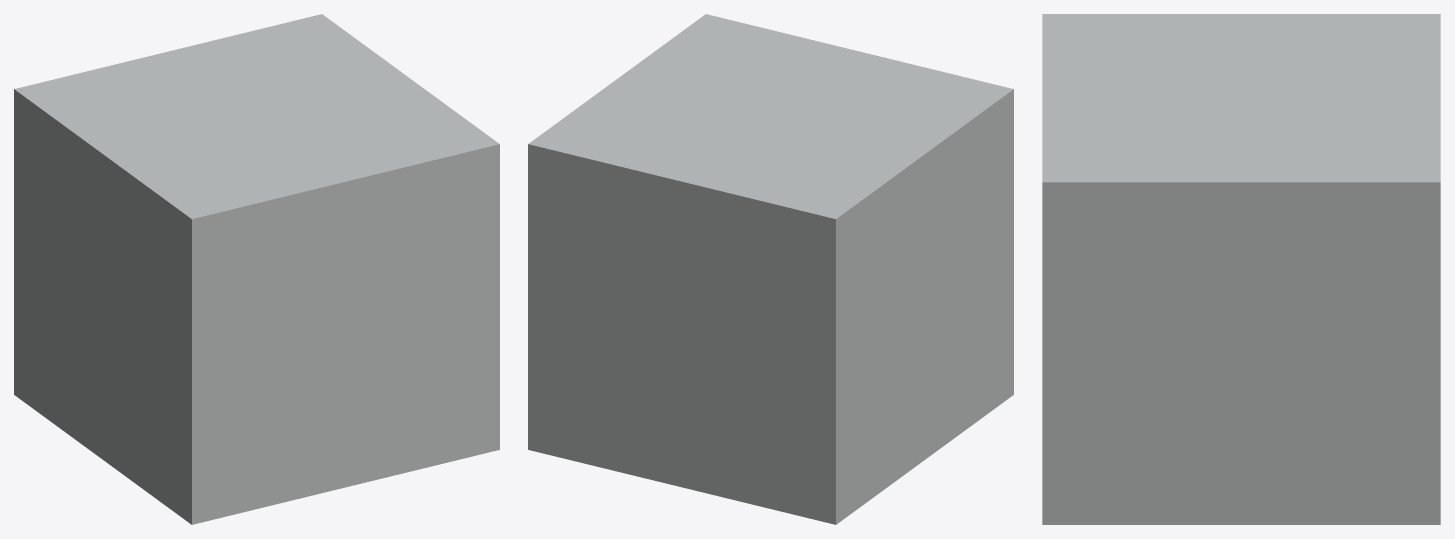
Rendered from MeshDoorwayDoor_10_0_GeomSubset_1.obj.
3 views of the same model, side by side, from view 1: azimuth 30°, elevation 25°; view 2: azimuth 150°, elevation 25°; view 3: azimuth 270°, elevation 25° (orthographic). The views are drawn at different scales.
Visible parts, largest first — view 1: MeshDoorwayDoor_10_0_GeomSubset_1; view 2: MeshDoorwayDoor_10_0_GeomSubset_1; view 3: MeshDoorwayDoor_10_0_GeomSubset_1.
Part boxes in pixels (x1,y1,x2,y2): MeshDoorwayDoor_10_0_GeomSubset_1: (14,14,499,524); MeshDoorwayDoor_10_0_GeomSubset_1: (528,14,1013,524); MeshDoorwayDoor_10_0_GeomSubset_1: (1042,14,1440,524).
Size of the model in its own units: 0.076 by 0.0721 by 0.076.
